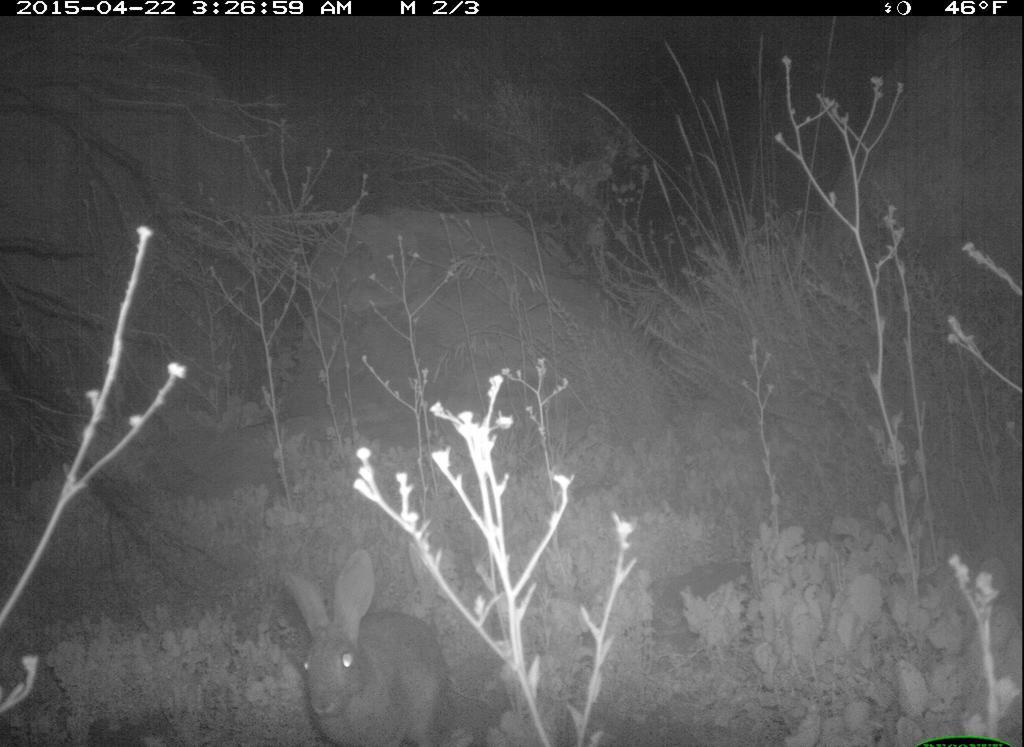rabbit: (278, 548, 452, 747)
